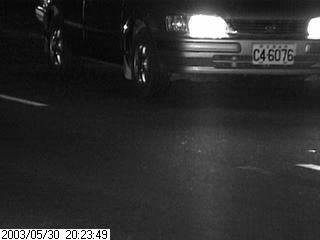plate: (250, 41, 296, 66)
